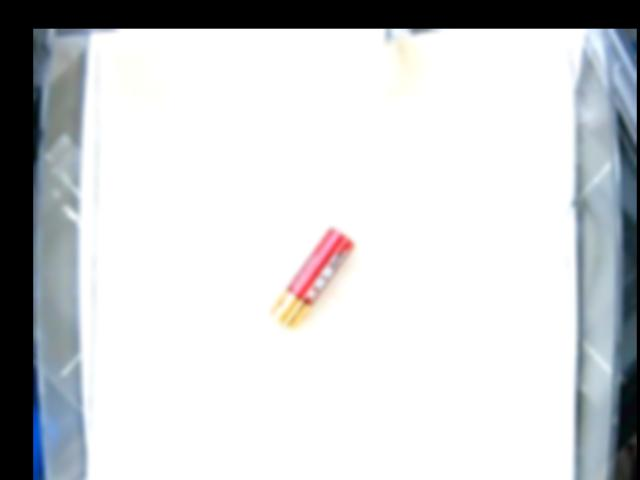Battery: (269, 224, 354, 326)
